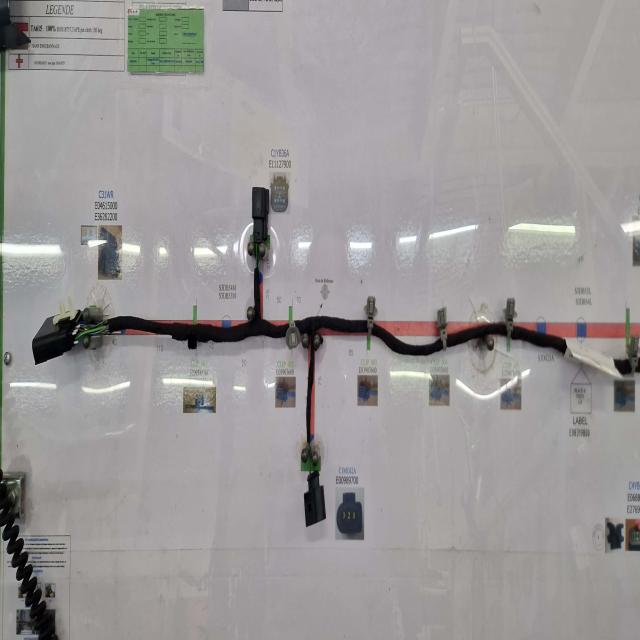Clip: (367, 291, 379, 345), (286, 303, 301, 343), (506, 293, 516, 347), (626, 328, 638, 366), (437, 300, 447, 343), (188, 327, 198, 344), (294, 325, 295, 328)
Connector: (32, 313, 73, 359), (305, 463, 326, 520), (252, 180, 270, 237)
Gape: (74, 299, 111, 340), (304, 430, 320, 464), (254, 234, 264, 266)
Info: (565, 330, 620, 371)
MHEV_N11_Cable: (113, 264, 566, 443)
